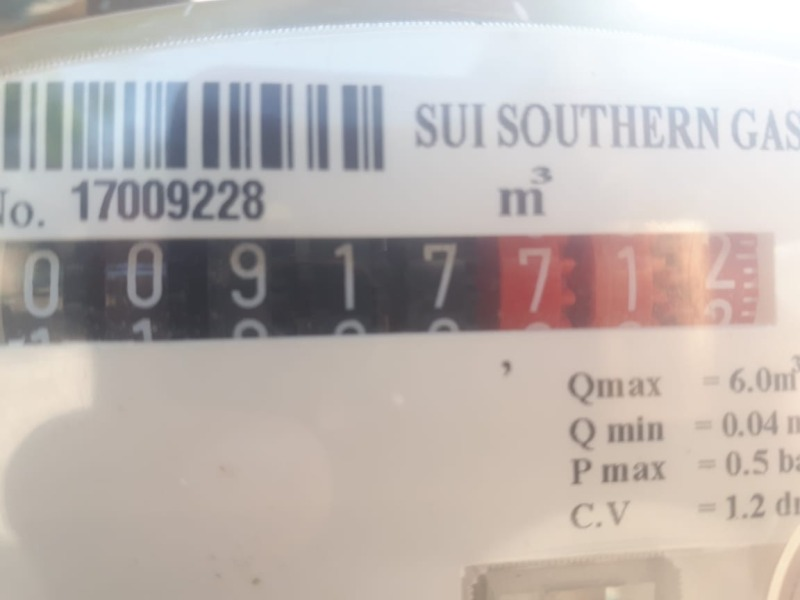ssgc: (5, 238, 773, 338)
